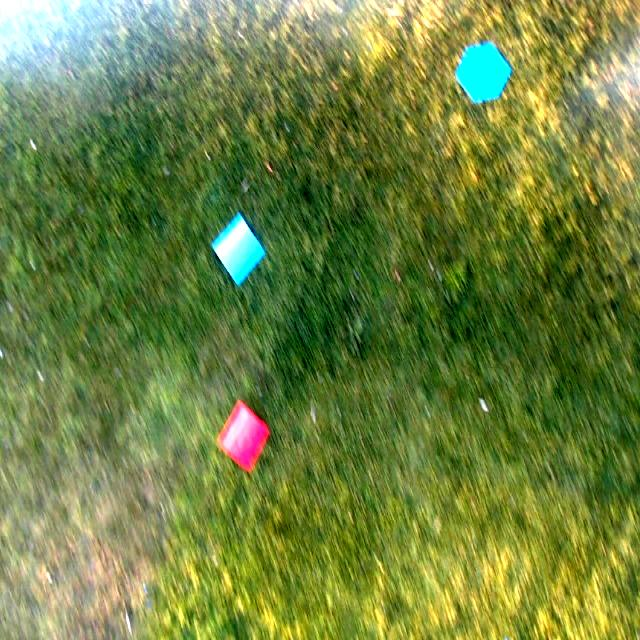blue_hexagon: (455, 40, 512, 103)
blue_square: (209, 211, 266, 287)
red_square: (216, 400, 270, 474)
